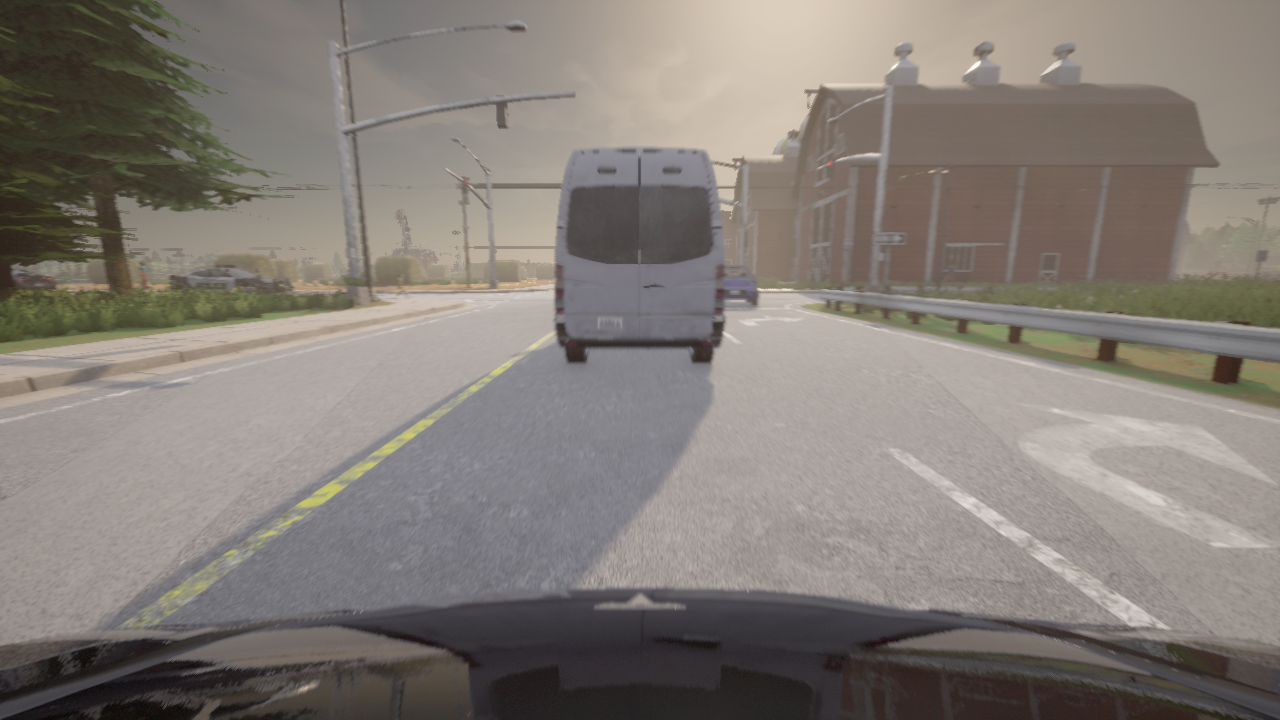cyclist: (0, 588, 1279, 719), (554, 148, 724, 363), (170, 265, 292, 294), (724, 266, 758, 305), (11, 270, 56, 290), (1234, 271, 1279, 281)
pedestrian: (394, 274, 409, 299), (137, 262, 151, 288), (944, 261, 954, 285), (429, 274, 433, 285)
